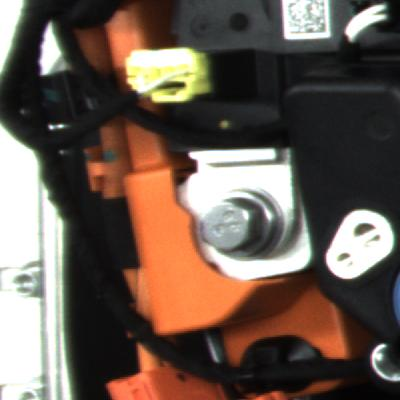nut_b: (192, 183, 300, 273)
